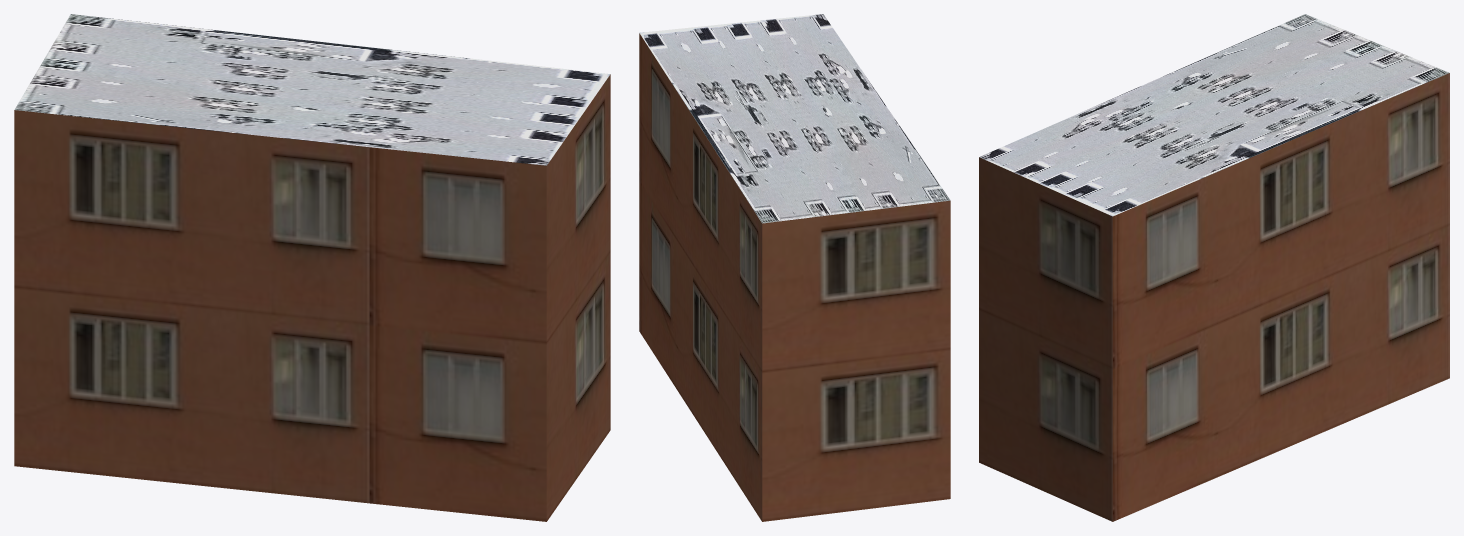
The model's file is ResTex__1796.fbx.
3 views of the same model, side by side, from view 1: azimuth 30°, elevation 25°; view 2: azimuth 150°, elevation 25°; view 3: azimuth 270°, elevation 25° (orthographic). The views are drawn at different scales.
Visible parts, largest first — view 1: CityEngineMaterial_20_m, CityEngineMaterial_2_m; view 2: CityEngineMaterial_20_m, CityEngineMaterial_2_m; view 3: CityEngineMaterial_20_m, CityEngineMaterial_2_m.
Boxes of the visible parts, x1,y1,x2,y2 form: CityEngineMaterial_20_m: [14, 74, 610, 521]; CityEngineMaterial_2_m: [14, 14, 610, 165]; CityEngineMaterial_20_m: [639, 33, 950, 521]; CityEngineMaterial_2_m: [639, 14, 950, 223]; CityEngineMaterial_20_m: [979, 73, 1449, 521]; CityEngineMaterial_2_m: [979, 14, 1449, 216].
Size of the model in its own units: 8.53 by 6 by 8.38.
Materials: 2 (2 with a texture image).
